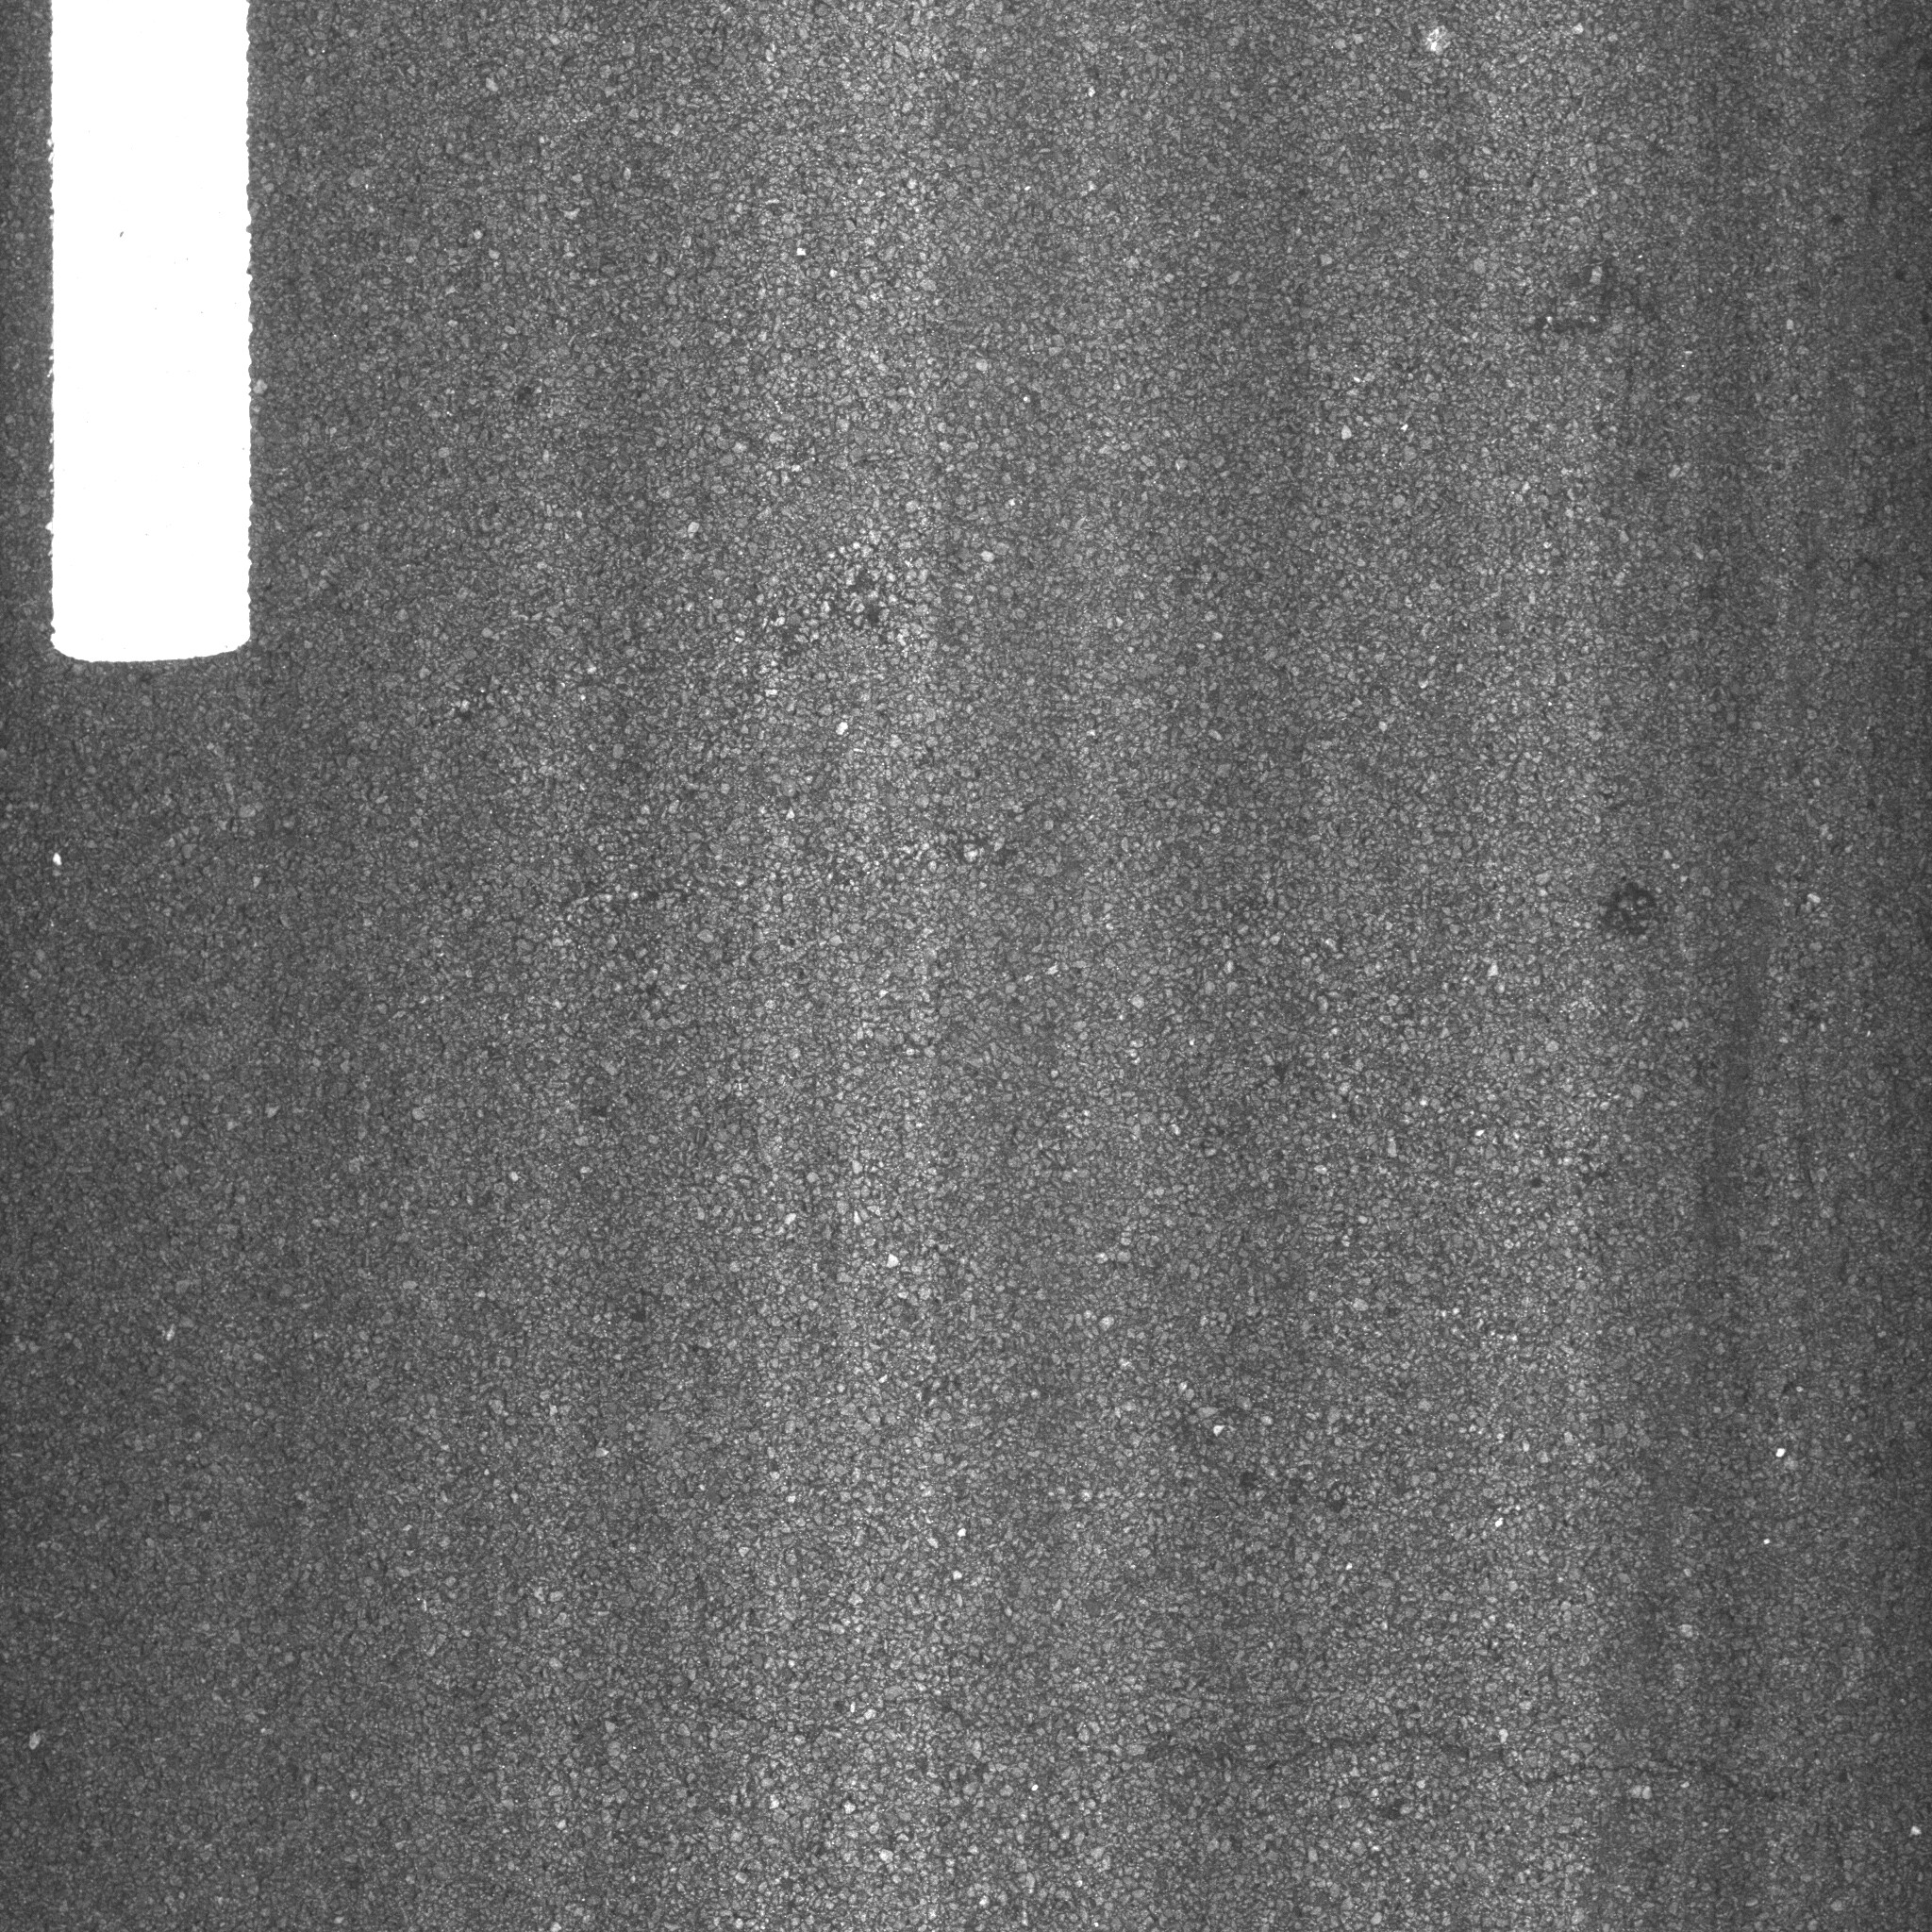transverse: (467, 1608, 1925, 1844)
